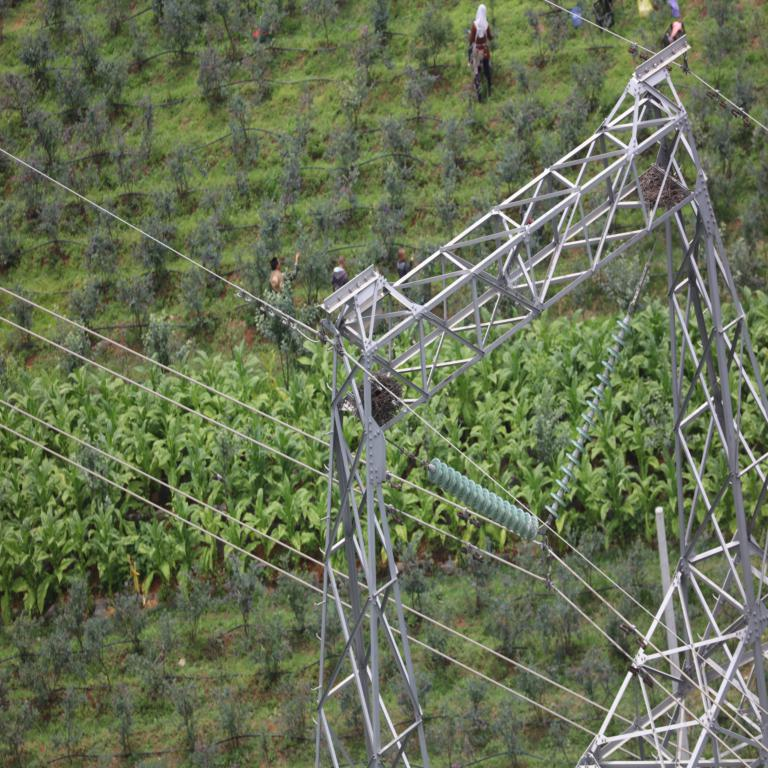nest: (358, 377, 402, 421)
